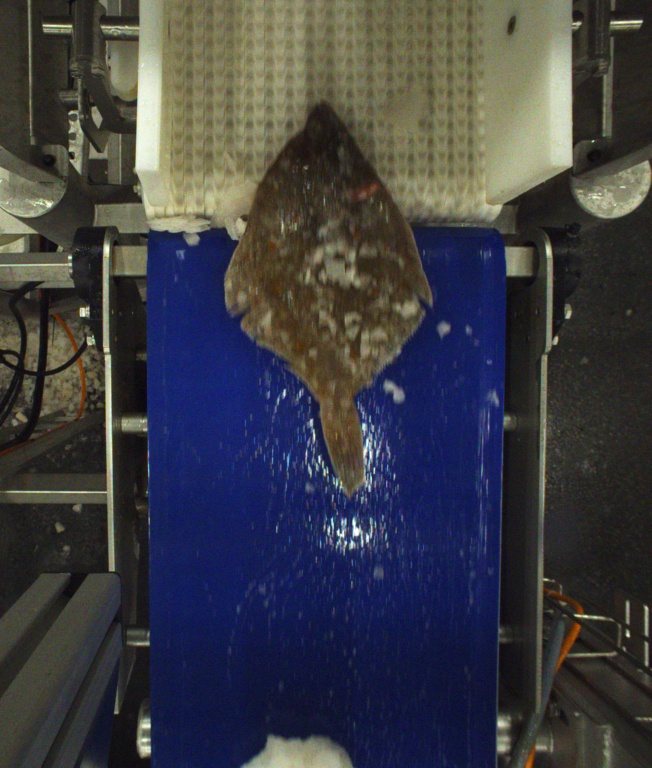PLE: (221, 100, 433, 494)
